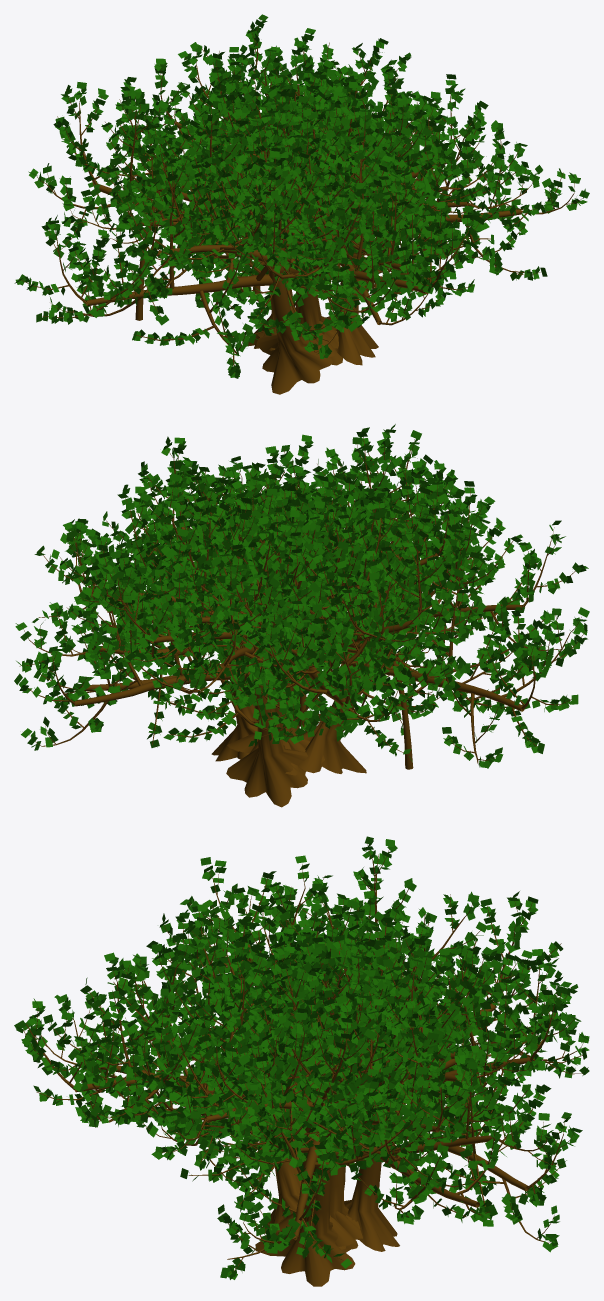
Rendered from Busch 2.FBX.
The picture shows the model from 3 angles, top to bottom: view 1: azimuth 30°, elevation 25°; view 2: azimuth 150°, elevation 25°; view 3: azimuth 270°, elevation 25°; orthographic projection. The views are drawn at different scales.
Visible parts, largest first — view 1: Foliage002; view 2: Foliage002; view 3: Foliage002.
Part boxes in pixels (x1,y1,x2,y2): Foliage002: (14, 14, 589, 394); Foliage002: (14, 424, 589, 807); Foliage002: (14, 836, 589, 1286).
Size of the model in its own units: 306 by 162 by 255.
